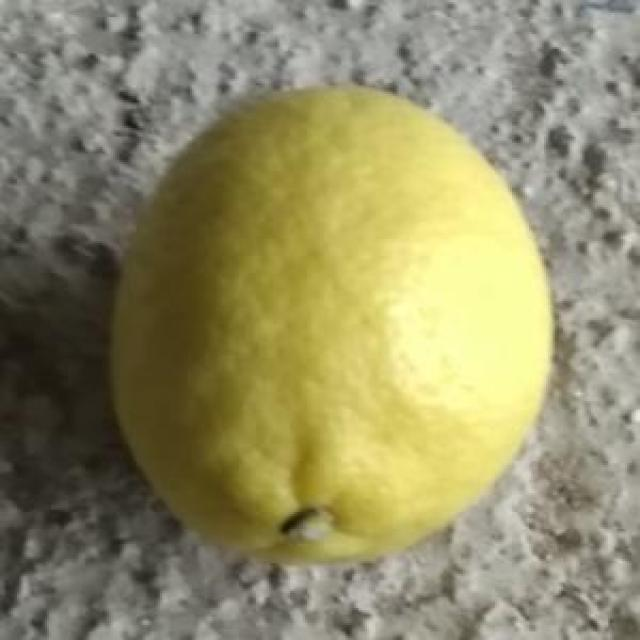lemon: (105, 81, 558, 572)
